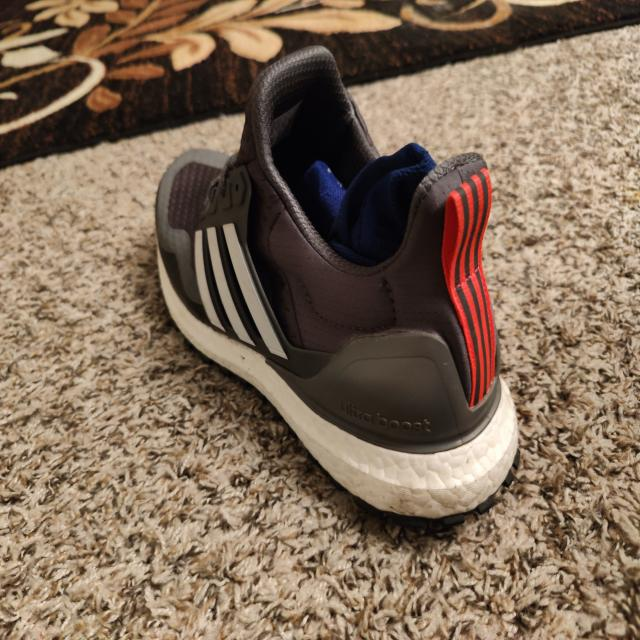black shoes: (154, 54, 520, 520)
